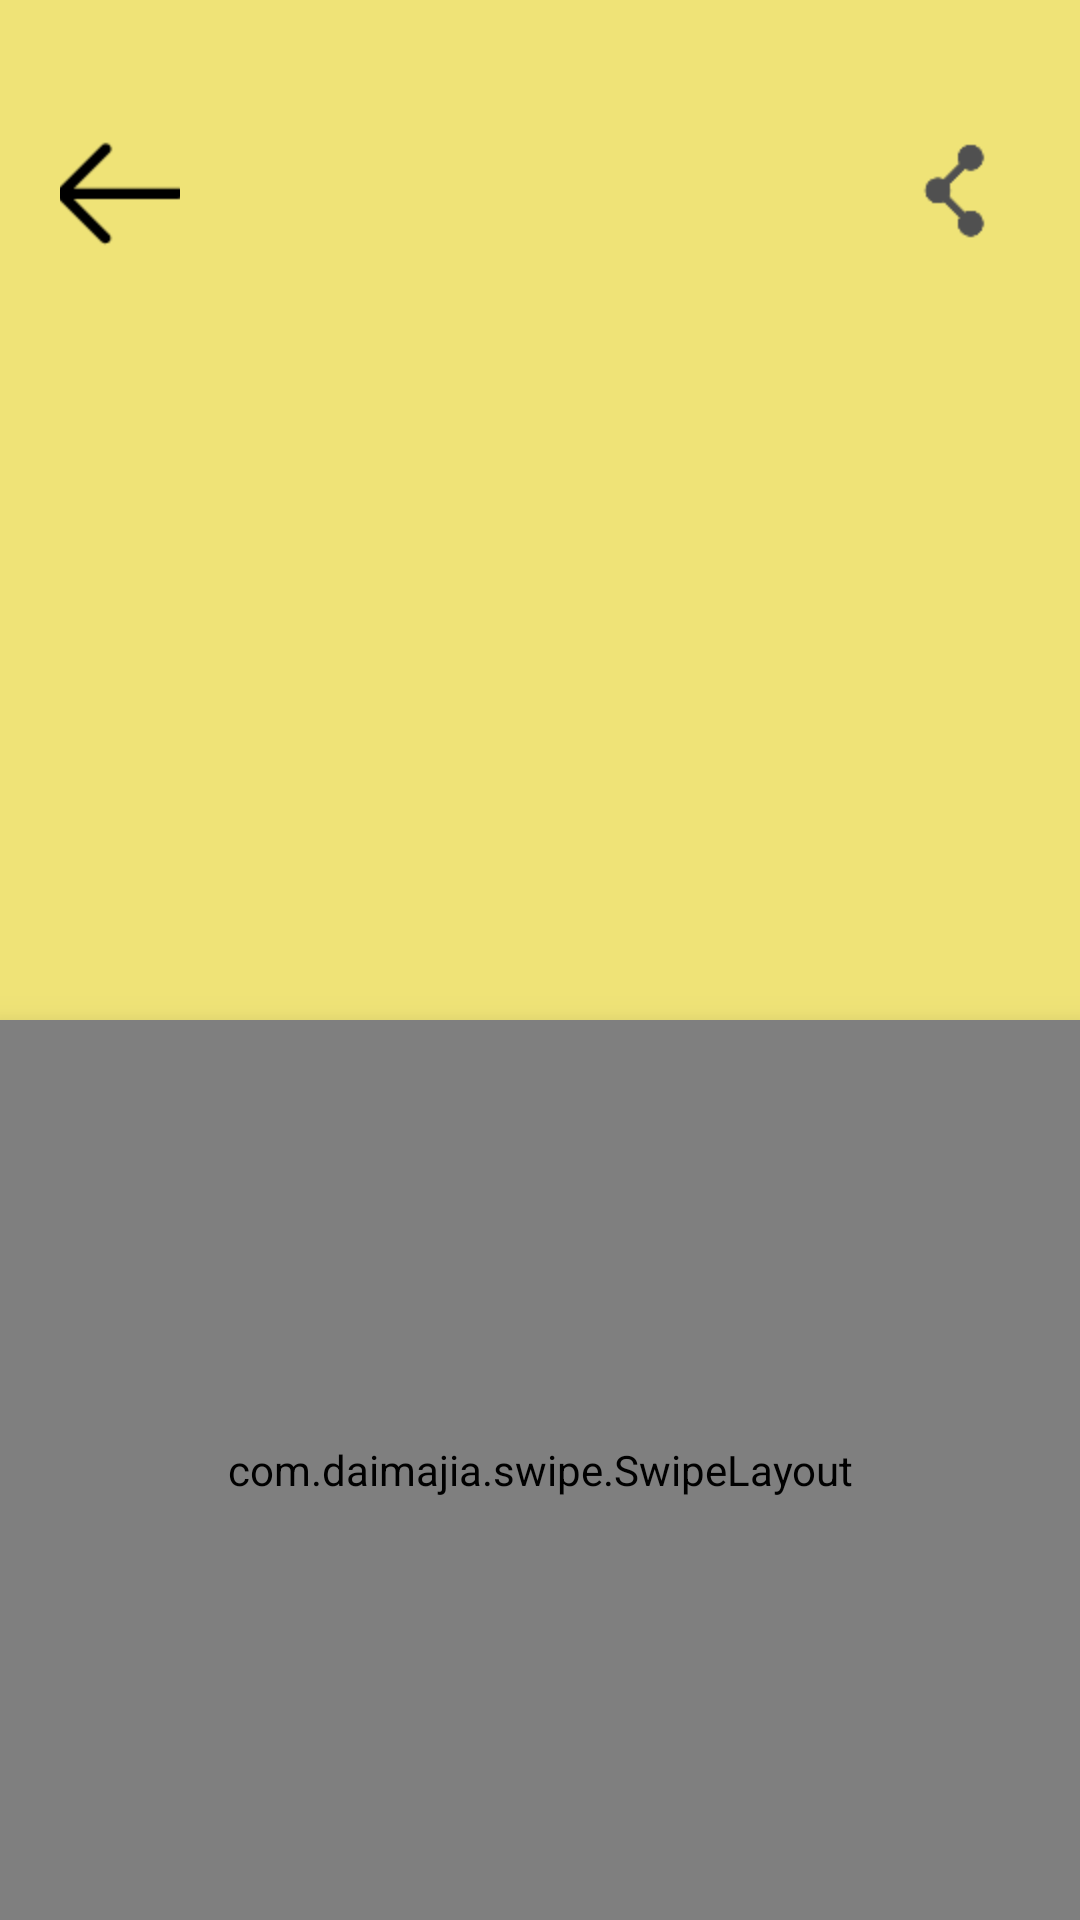

Where to tap for icons on this 1080 x 1920 app screen, as [x,y]:
left: [120,193]
share: [954,191]
